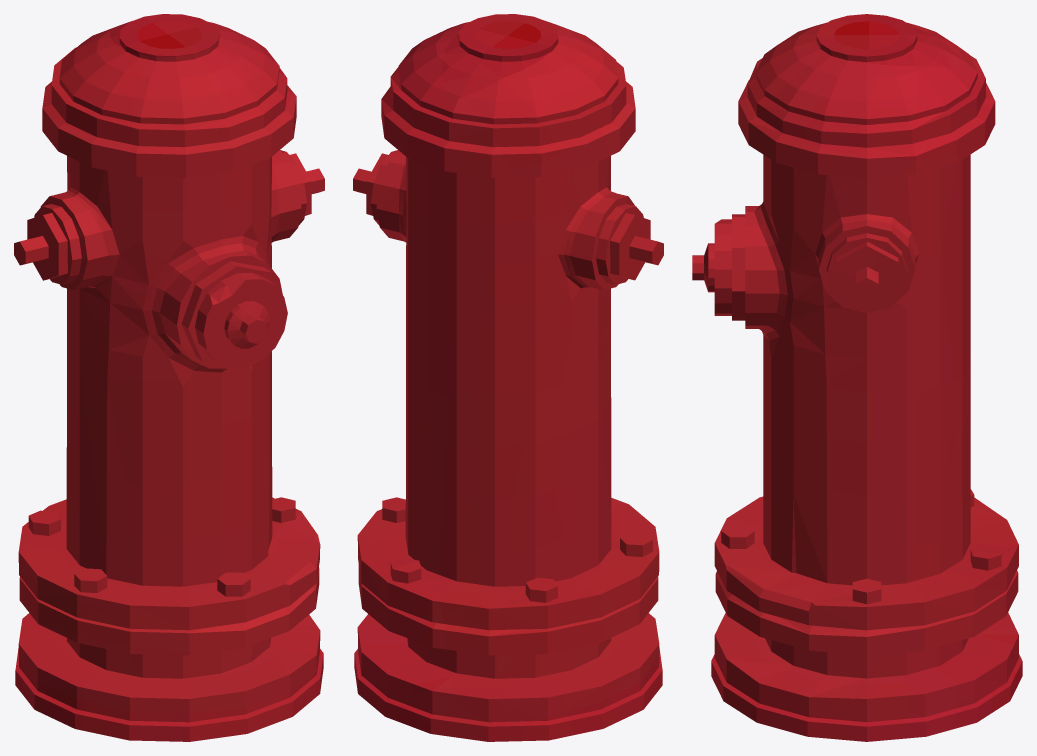
File: FireHydrant.fbx
3 renders of one model, left to right at view 1: azimuth 30°, elevation 25°; view 2: azimuth 150°, elevation 25°; view 3: azimuth 270°, elevation 25°, orthographic.
Parts seen in each view (by area): view 1: SM_FireHydrant_01.mo; view 2: SM_FireHydrant_01.mo; view 3: SM_FireHydrant_01.mo.
Part boxes in pixels (<box>): SM_FireHydrant_01.mo: <box>14,14,324,741</box>; SM_FireHydrant_01.mo: <box>353,14,663,741</box>; SM_FireHydrant_01.mo: <box>692,14,1022,741</box>.
Bounding box in the file's own units: 47.2 × 96.68 × 45.13.
